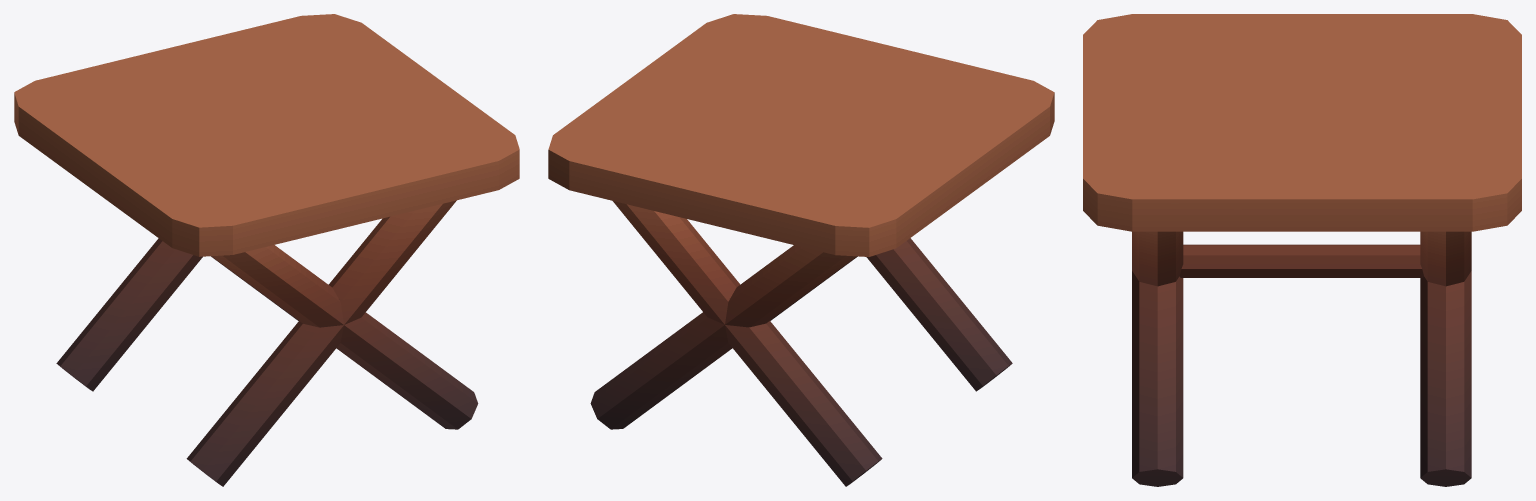
File: table.fbx
3 views of the same model, side by side, from view 1: azimuth 30°, elevation 25°; view 2: azimuth 150°, elevation 25°; view 3: azimuth 270°, elevation 25° (orthographic). The views are drawn at different scales.
Visible parts, largest first — view 1: table; view 2: table; view 3: table.
Boxes of the visible parts, x1=… form: table: x1=14, y1=14, x2=519, y2=486; table: x1=548, y1=14, x2=1054, y2=486; table: x1=1083, y1=14, x2=1521, y2=486.
Bounding box in the file's own units: 0.5369 × 0.4307 × 0.5369.
